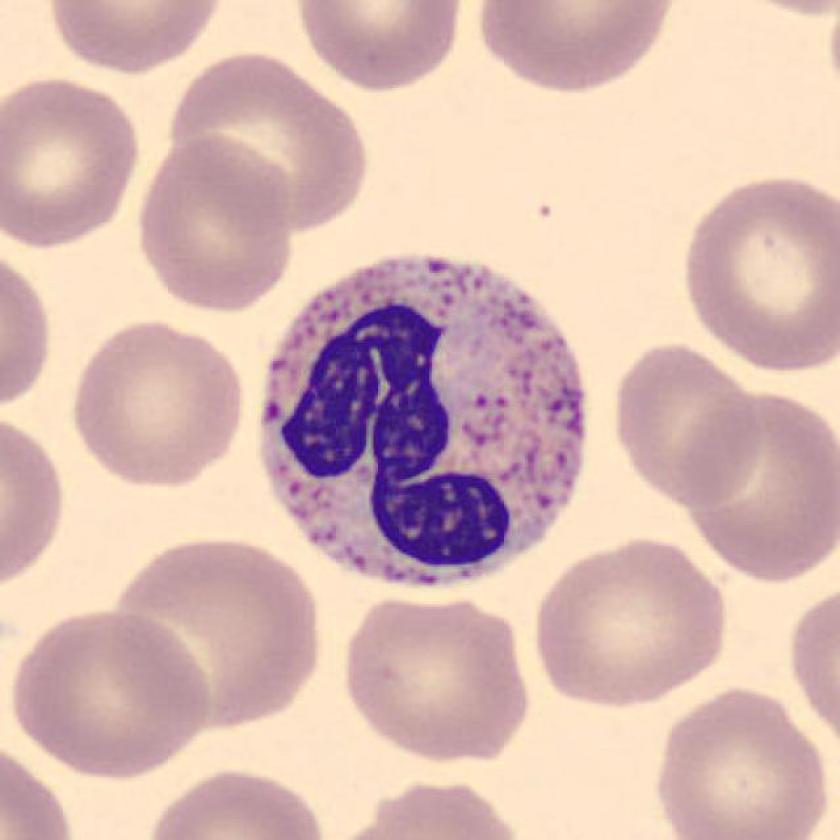neutrophil: (262, 254, 581, 585)
